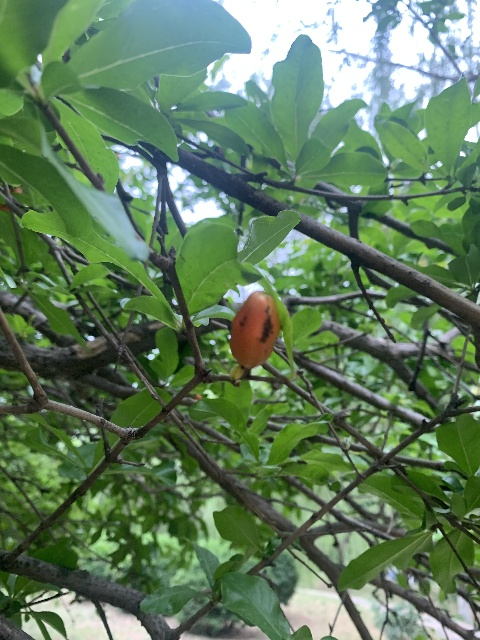bud: (229, 290, 280, 370)
